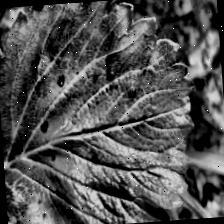Leaf Spot: (0, 0, 205, 224)
